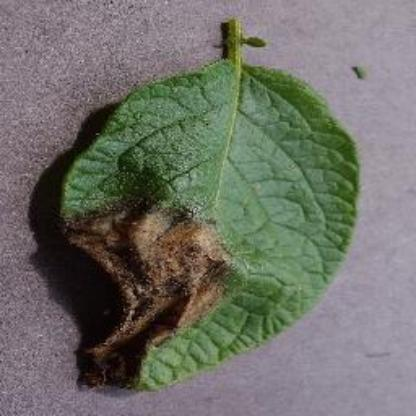Late-Blight: (3, 54, 400, 402)
